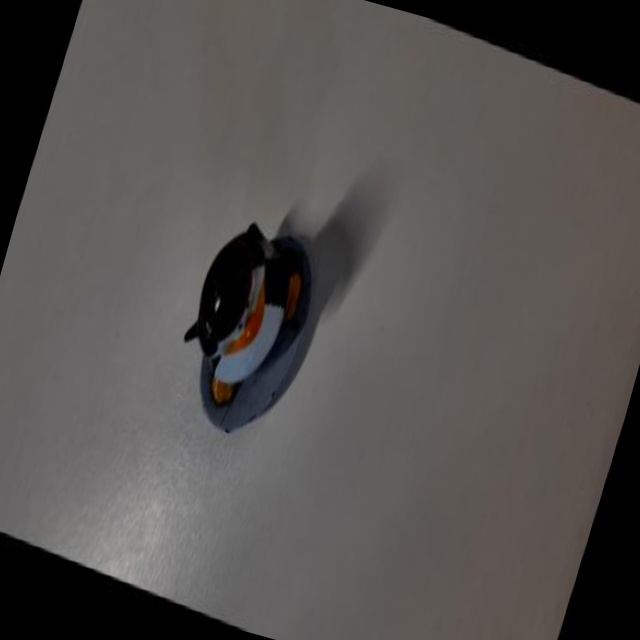Penguin: (144, 183, 353, 485)
